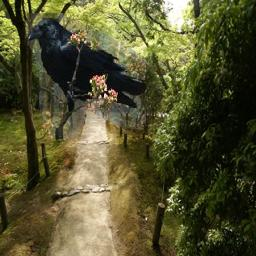Crow: (22, 13, 146, 139)
